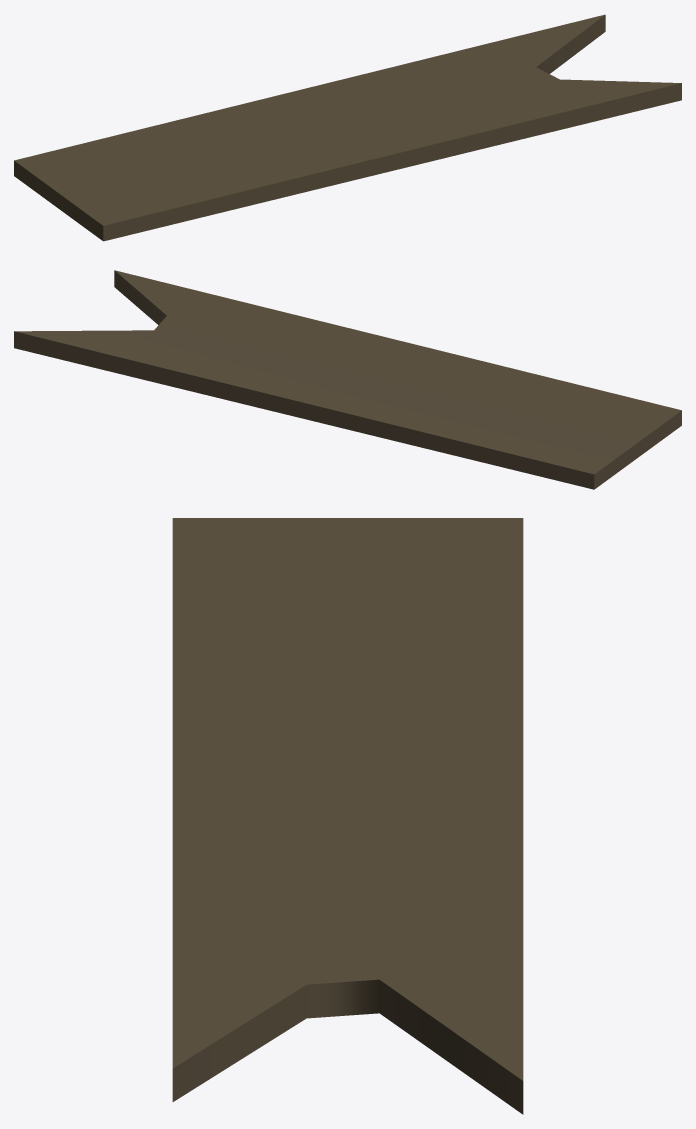
Rendered from Wood2.2.fbx.
The picture shows the model from 3 angles, top to bottom: view 1: azimuth 30°, elevation 25°; view 2: azimuth 150°, elevation 25°; view 3: azimuth 270°, elevation 25°; orthographic projection. The views are drawn at different scales.
Parts seen in each view (by area): view 1: polySurface30; view 2: polySurface30; view 3: polySurface30.
Boxes of the visible parts, x1,y1,x2,y2 form: polySurface30: (14,14,681,241); polySurface30: (14,270,681,489); polySurface30: (172,518,523,1114).
Bounding box in the file's own units: 8.91 × 0.2481 × 2.33.
